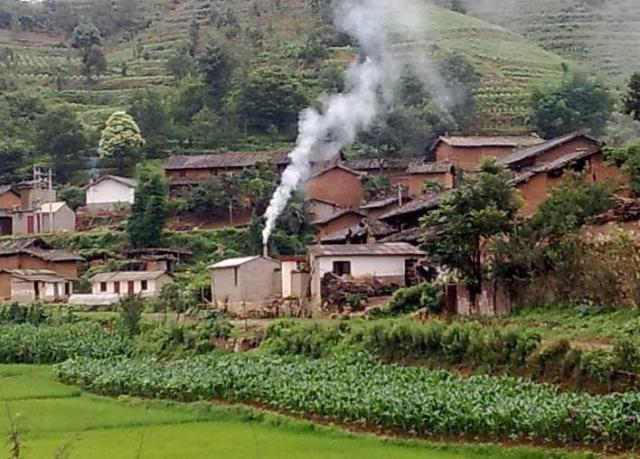smoke: (259, 1, 470, 246)
